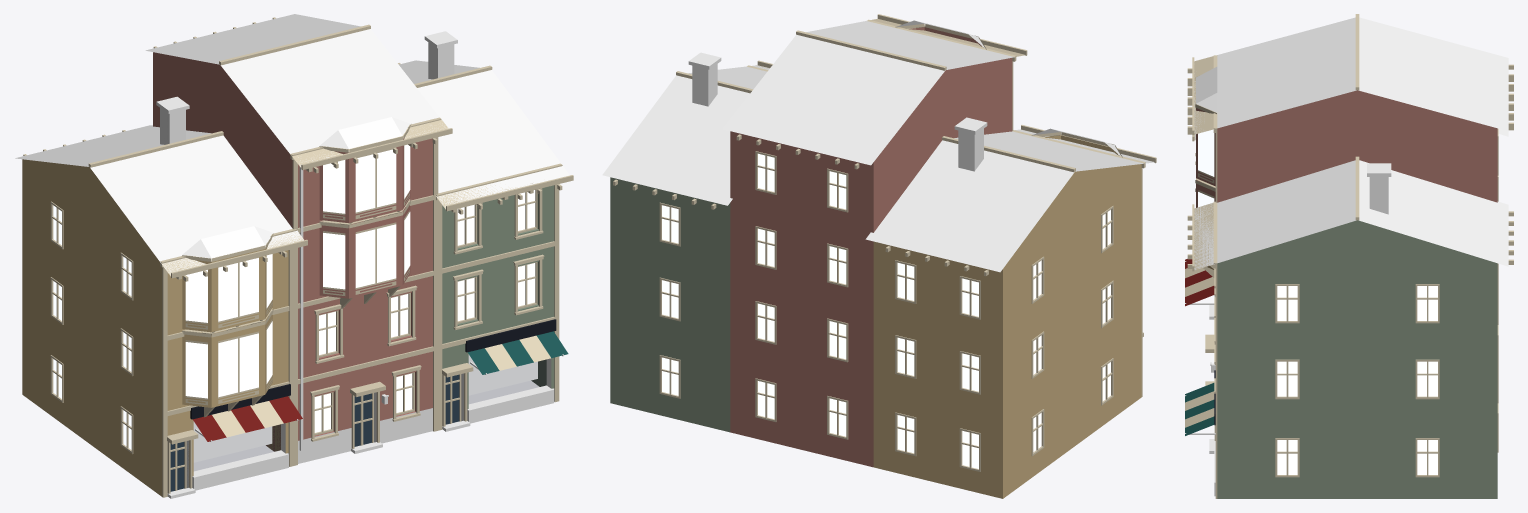
The model's file is bld_ahsap_row_a.glb.
3 renders of one model, left to right at view 1: azimuth 30°, elevation 25°; view 2: azimuth 150°, elevation 25°; view 3: azimuth 270°, elevation 25°, orthographic.
Parts seen in each view (by area): view 1: LOD0; view 2: LOD0; view 3: LOD0.
Part boxes in pixels (x1=…): LOD0: x1=15, y1=14, x2=573, y2=498; LOD0: x1=602, y1=14, x2=1156, y2=498; LOD0: x1=1185, y1=14, x2=1513, y2=498.
Size of what is drawn, in the model's own units: 17.24 by 14.48 by 12.2.
